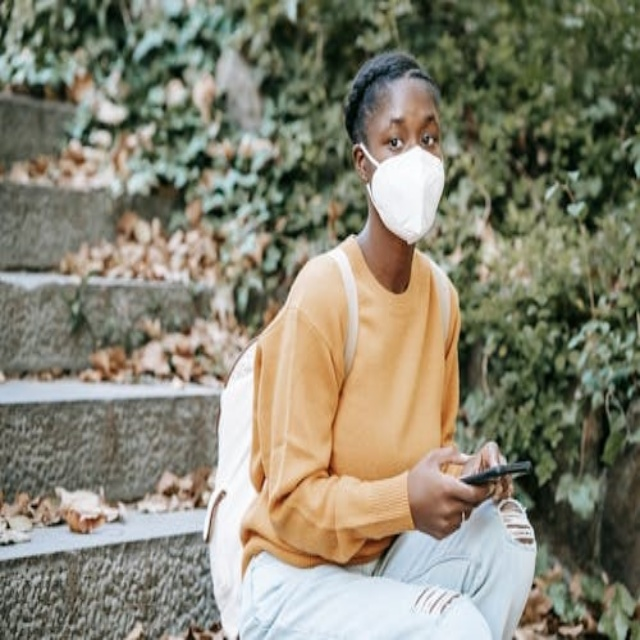Mascara: (360, 142, 444, 244)
Sin_gafas: (380, 108, 445, 150)
Sin_guantes: (406, 431, 484, 542), (451, 442, 512, 518)
